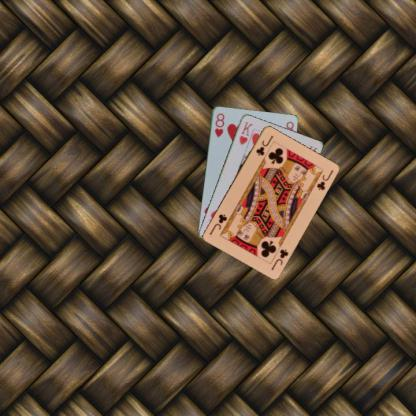8h: (212, 110, 225, 138)
Jc: (268, 246, 290, 272), (253, 133, 275, 156)
Kh: (236, 118, 254, 147)
